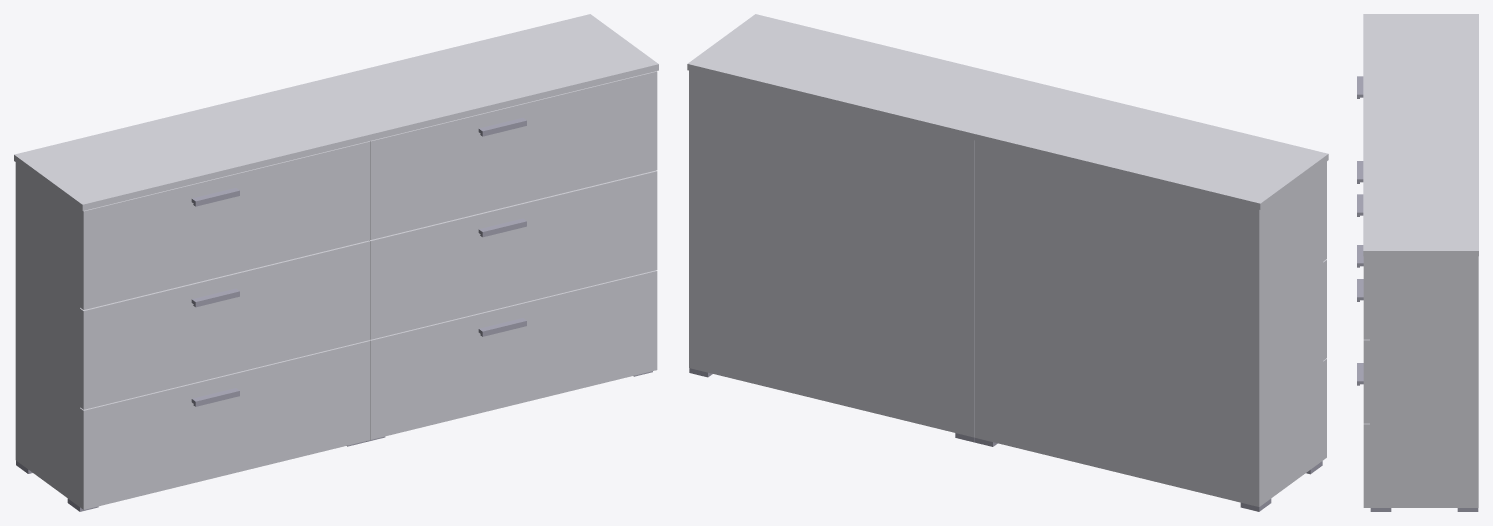
File: cabinet_B07GFL6W68.glb
The picture shows the model from 3 angles, left to right: view 1: azimuth 30°, elevation 25°; view 2: azimuth 150°, elevation 25°; view 3: azimuth 270°, elevation 25°; orthographic projection. The views are drawn at different scales.
Parts seen in each view (by area): view 1: RootNode; view 2: RootNode; view 3: RootNode.
Boxes of the visible parts, bbox=[...] form: RootNode: bbox=[14, 14, 658, 511]; RootNode: bbox=[687, 14, 1328, 511]; RootNode: bbox=[1357, 14, 1478, 511].
Bounding box in the file's own units: 1.53 × 0.7905 × 0.3334.
1 material, 1 textured.
